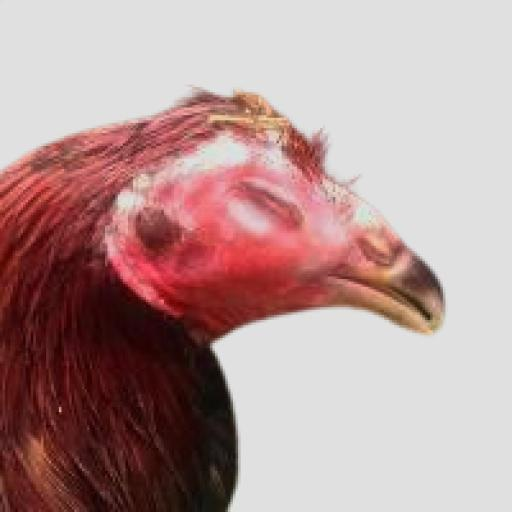disease: (200, 146, 344, 290), (112, 174, 201, 274)
